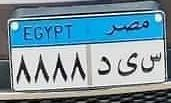8: (51, 50, 70, 84), (69, 50, 87, 84), (14, 53, 32, 86), (33, 54, 50, 85)
daal: (97, 53, 112, 79)
seen: (140, 52, 163, 75)
yaa: (115, 50, 139, 78)
